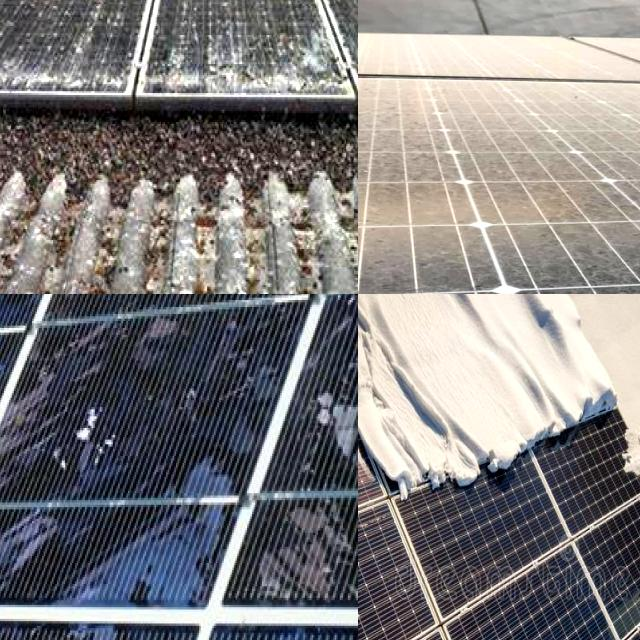bird: (249, 24, 331, 82), (158, 33, 236, 83), (0, 17, 29, 91), (0, 38, 33, 83), (0, 23, 13, 85)
dust: (358, 175, 513, 279), (358, 69, 493, 166), (518, 80, 640, 171), (529, 176, 640, 261), (358, 29, 593, 67)
panel: (358, 364, 490, 527), (574, 360, 638, 454), (504, 394, 574, 475), (358, 294, 397, 418), (358, 506, 365, 583)
shadow: (0, 412, 44, 529)
